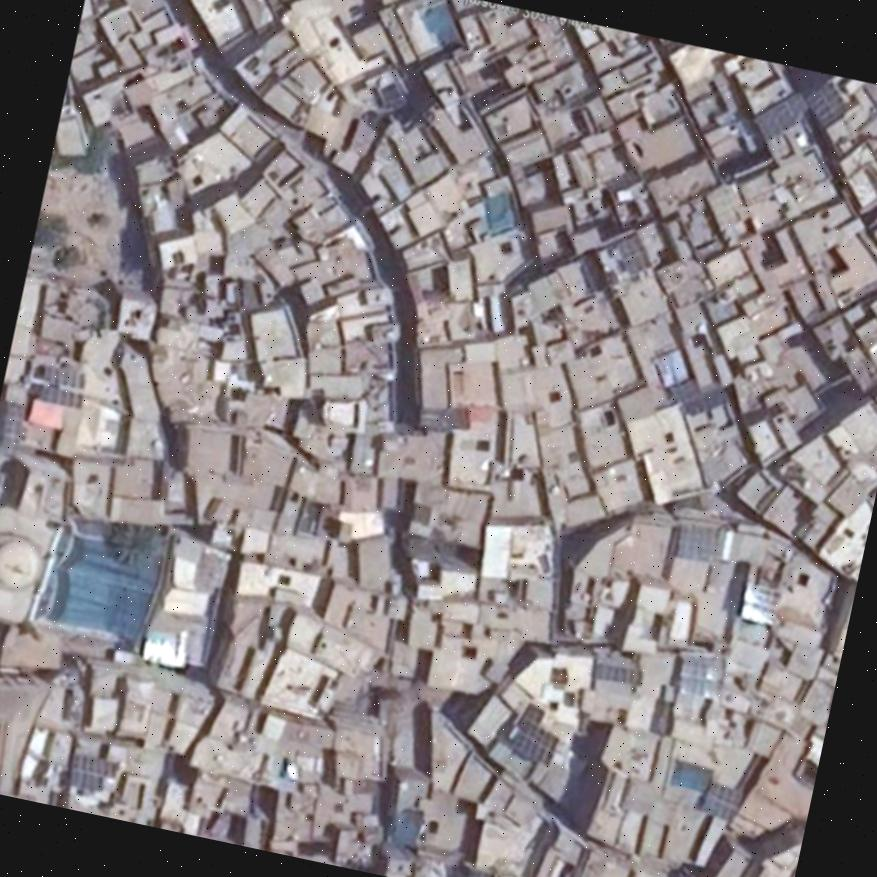Solarpanel: (508, 722, 556, 768), (70, 754, 120, 793), (698, 783, 743, 822), (803, 81, 843, 121), (615, 230, 649, 273), (30, 382, 80, 407), (594, 664, 640, 684), (43, 364, 82, 386)
